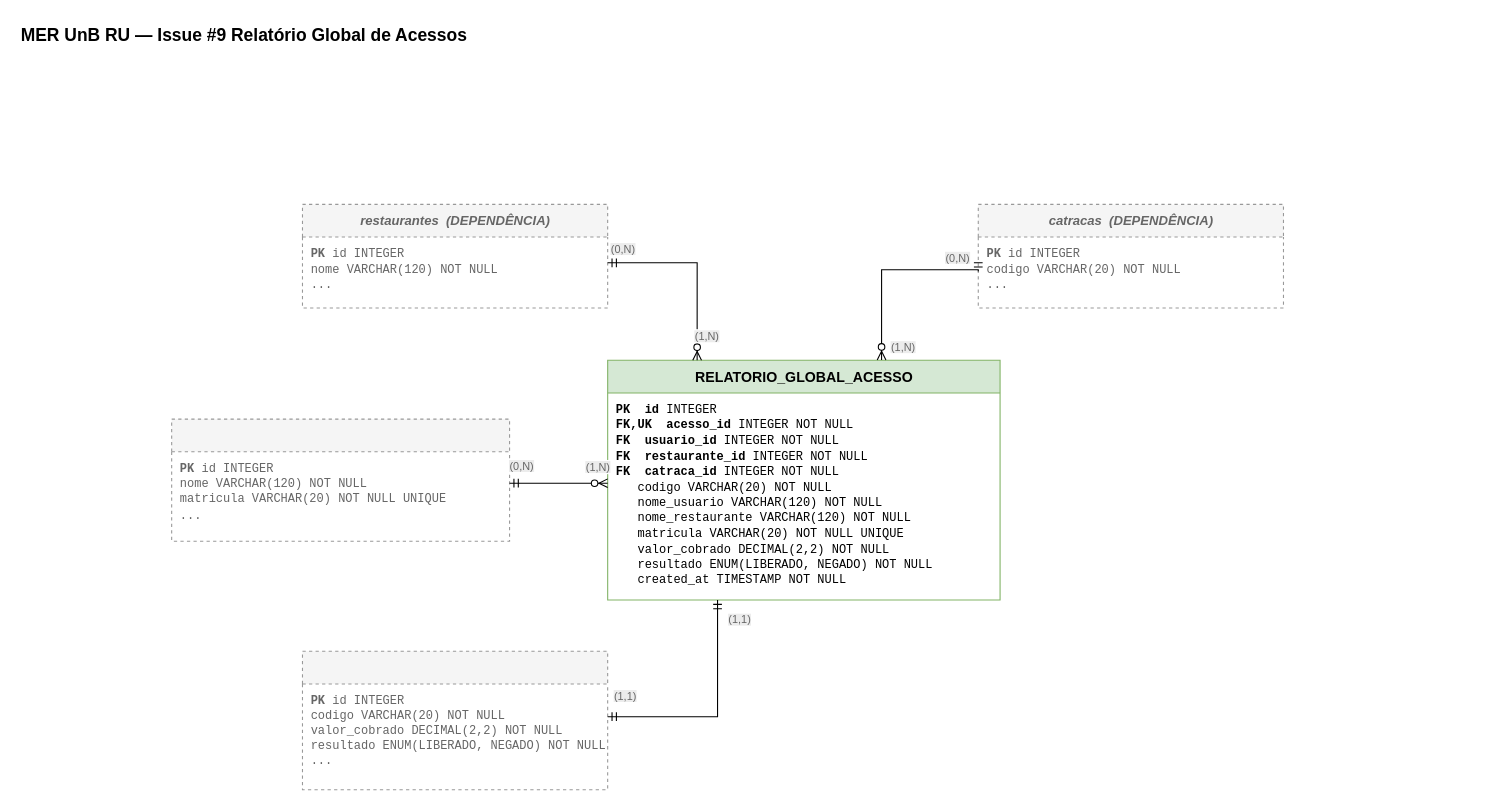
The diagram is 1509 pixels wide and 811 high, and some of its shapes have lost their labels. Here are the shapes that lost their labels. From the top down, the box of each, then its label:
(171, 418, 510, 541): usuario (DEPENDÊNCIA)
(301, 650, 608, 790): acesso (DEPENDÊNCIA)
